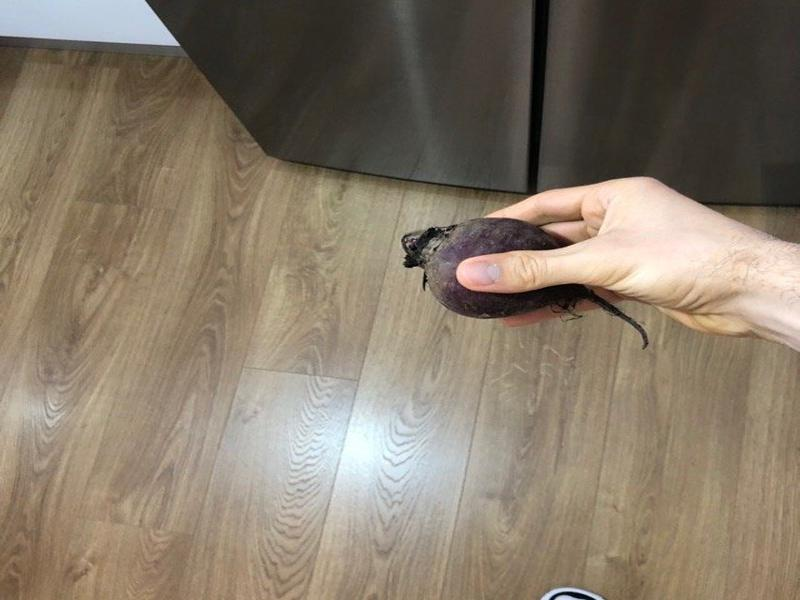Beet: (399, 217, 645, 350)
